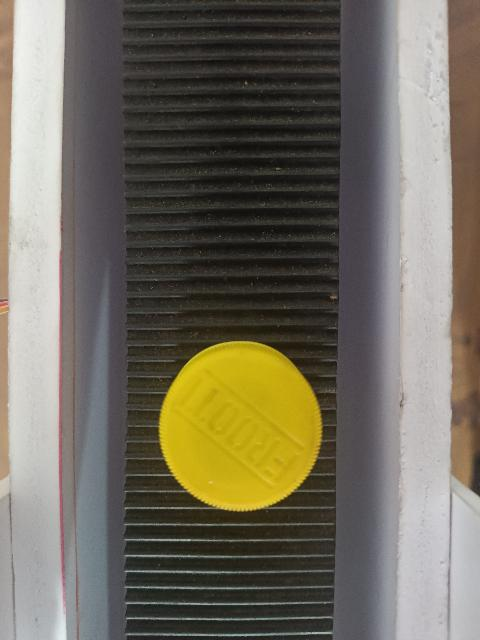bottlecap: (158, 336, 330, 514)
